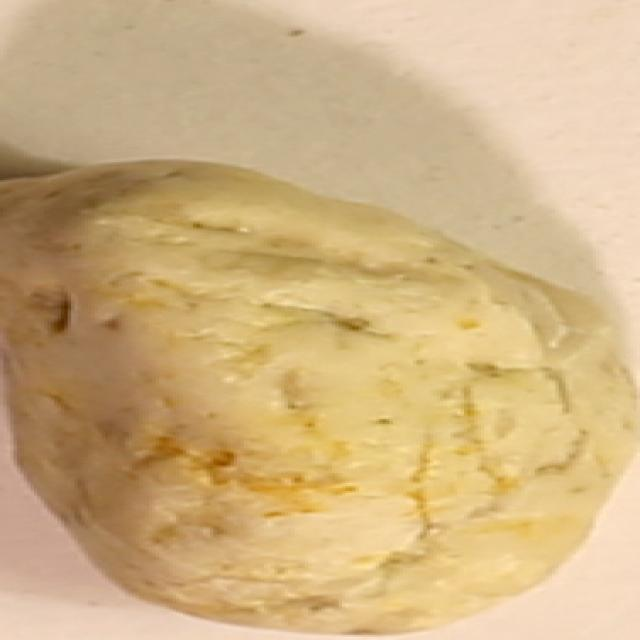stone: (4, 158, 640, 638)
